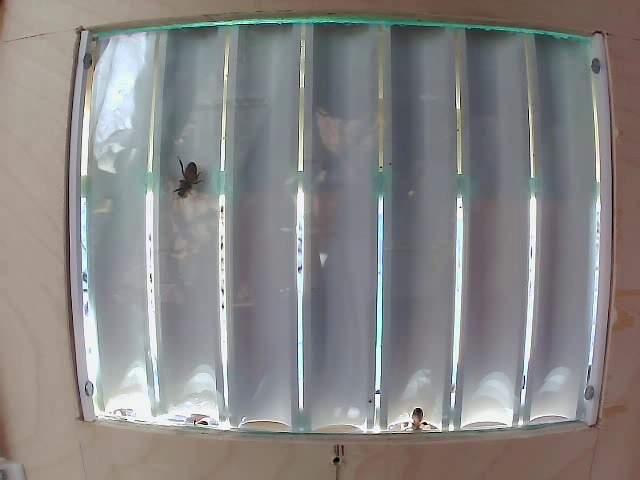bee: (170, 150, 214, 211)
